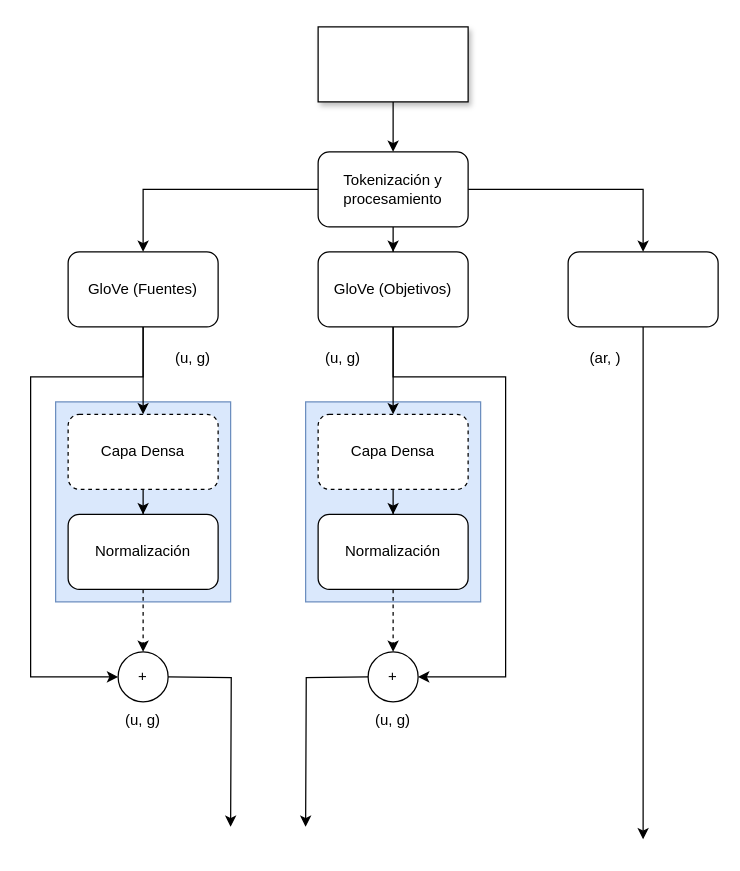
This 740x871 diagram has some shape labels left out. Here are the shapes that lost their labels. From the top down, the centre of each, then its label:
the point at 394,66: Entrada (UDAs, Dist Arg)
the point at 642,289: Distancia Argumentativa
